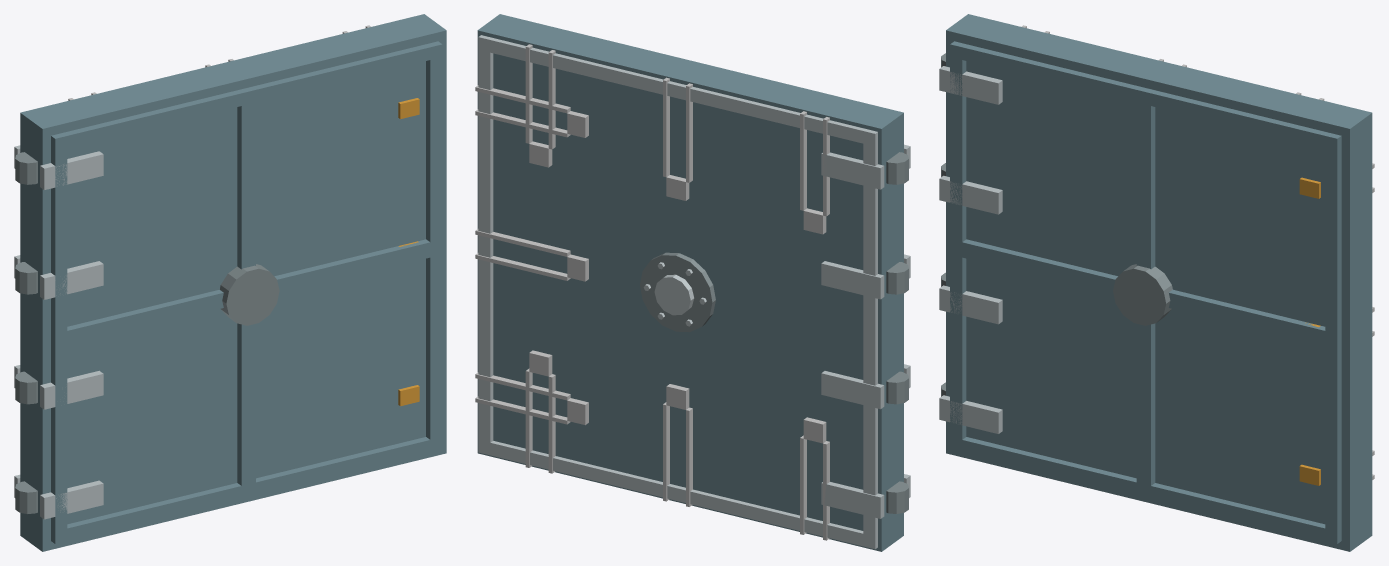
File: body.obj
3 renders of one model, left to right at view 1: azimuth 30°, elevation 25°; view 2: azimuth 150°, elevation 25°; view 3: azimuth 330°, elevation 25°, orthographic.
Bounding box in the file's own units: 3.46 × 3.34 × 0.54.
